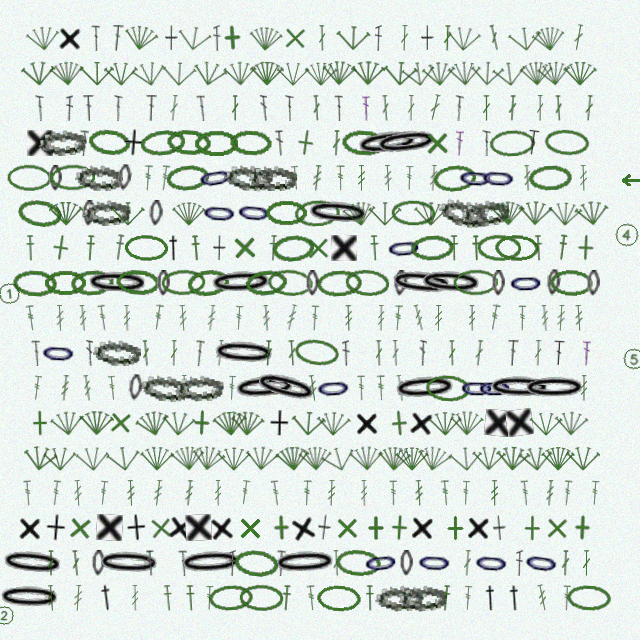chain: (251, 367, 320, 408), (354, 126, 421, 160), (373, 126, 440, 159), (388, 267, 455, 299), (0, 547, 66, 579), (232, 372, 298, 403), (305, 198, 371, 228), (211, 338, 277, 368), (392, 373, 458, 403), (208, 268, 274, 297), (418, 268, 484, 297), (178, 548, 244, 577), (272, 548, 338, 577), (437, 195, 489, 231), (96, 549, 162, 577), (85, 269, 150, 297), (487, 374, 552, 401), (522, 375, 587, 401), (0, 584, 62, 611), (460, 197, 511, 229), (16, 197, 63, 229), (140, 373, 190, 403), (398, 583, 448, 613), (293, 337, 340, 368), (38, 128, 87, 157), (224, 163, 273, 192), (82, 198, 131, 227), (139, 128, 186, 158), (87, 127, 132, 158), (186, 267, 231, 298), (165, 163, 211, 193), (432, 163, 478, 193), (233, 548, 279, 578), (175, 374, 224, 402), (375, 584, 424, 612), (271, 233, 316, 263), (244, 268, 289, 298), (544, 128, 590, 157), (267, 268, 313, 297), (344, 268, 390, 297), (335, 548, 381, 577), (166, 128, 211, 157), (115, 268, 160, 297), (75, 164, 123, 191), (93, 339, 141, 366), (489, 129, 535, 157), (294, 199, 340, 227), (316, 269, 362, 297), (425, 374, 471, 402), (316, 584, 362, 612), (566, 584, 612, 612), (341, 129, 386, 157), (528, 164, 573, 192), (410, 234, 455, 262), (12, 269, 57, 297), (70, 269, 115, 297), (208, 584, 253, 612), (249, 165, 297, 191), (229, 129, 273, 157), (7, 164, 52, 191), (50, 164, 95, 191), (124, 234, 169, 261), (494, 234, 539, 261), (161, 269, 206, 296), (453, 269, 498, 296), (549, 269, 594, 296), (239, 584, 284, 611), (196, 162, 235, 193), (477, 234, 521, 261), (522, 548, 561, 578), (194, 130, 238, 156), (391, 200, 435, 226), (265, 200, 308, 226), (44, 270, 87, 296), (235, 198, 273, 227), (362, 548, 400, 577), (385, 234, 423, 262), (457, 164, 494, 192), (480, 164, 517, 192), (201, 199, 238, 227), (40, 339, 77, 367), (315, 374, 352, 402), (473, 549, 510, 577), (416, 549, 453, 576), (508, 270, 544, 296), (459, 375, 495, 401), (477, 375, 513, 401), (117, 164, 132, 191), (546, 269, 561, 296), (128, 374, 143, 401), (393, 270, 408, 296), (82, 200, 96, 226), (149, 200, 163, 226), (49, 165, 62, 191), (157, 270, 170, 296), (306, 270, 319, 296), (492, 270, 505, 296), (587, 270, 600, 296), (92, 550, 105, 576), (400, 550, 413, 576)
double: (428, 94, 442, 121), (526, 129, 540, 156), (488, 24, 501, 51), (572, 24, 585, 51), (111, 25, 124, 51), (83, 95, 95, 121), (193, 340, 205, 366), (507, 340, 519, 366), (553, 340, 565, 366), (146, 95, 157, 121), (196, 95, 207, 121), (78, 130, 89, 156), (275, 550, 286, 576), (35, 95, 45, 121), (113, 95, 123, 121), (169, 95, 179, 121), (454, 95, 464, 121), (584, 95, 594, 121), (275, 130, 285, 156), (31, 340, 41, 366), (141, 340, 151, 366), (215, 340, 225, 366), (263, 340, 273, 366), (287, 340, 297, 366), (474, 340, 484, 366), (71, 550, 81, 576), (178, 550, 188, 576), (91, 25, 100, 51), (400, 25, 409, 51), (443, 25, 452, 51), (285, 95, 294, 121), (312, 95, 321, 121), (334, 95, 343, 121), (381, 95, 390, 121), (482, 95, 491, 121), (508, 95, 517, 121), (554, 95, 563, 121), (332, 130, 341, 156), (455, 130, 464, 156), (482, 130, 491, 156), (391, 340, 400, 366), (418, 340, 427, 366), (582, 340, 591, 366), (146, 550, 155, 576), (332, 550, 341, 576), (463, 550, 472, 576), (561, 550, 570, 576), (582, 550, 591, 576), (213, 25, 221, 51), (318, 25, 326, 51), (231, 95, 239, 121), (260, 95, 268, 121), (362, 95, 370, 121), (407, 95, 415, 121), (536, 95, 544, 121), (170, 340, 178, 366), (342, 340, 350, 366), (375, 340, 383, 366), (448, 340, 456, 366), (534, 340, 542, 366), (47, 550, 55, 576), (375, 25, 382, 51), (66, 95, 73, 121), (86, 340, 93, 366), (229, 550, 236, 576), (516, 550, 523, 576)
fan: (319, 441, 358, 475), (130, 57, 168, 89), (191, 57, 229, 89), (134, 407, 172, 439), (415, 442, 453, 474), (122, 22, 160, 53), (176, 22, 213, 53), (190, 442, 227, 473), (530, 23, 567, 53), (400, 58, 437, 88), (491, 58, 528, 88), (341, 198, 378, 228), (22, 443, 59, 473), (105, 443, 142, 473), (507, 23, 543, 53), (25, 23, 61, 52), (49, 58, 85, 87), (536, 58, 572, 87), (574, 198, 610, 227), (49, 408, 85, 437), (170, 443, 206, 472), (244, 443, 280, 472), (248, 24, 284, 52), (446, 24, 482, 52), (421, 59, 457, 87), (161, 409, 197, 437), (212, 409, 248, 437), (290, 409, 326, 437), (275, 444, 311, 472), (448, 444, 484, 472), (495, 444, 531, 472), (518, 444, 554, 472), (21, 59, 56, 87), (162, 59, 197, 87), (383, 59, 418, 87), (548, 199, 583, 227), (230, 409, 265, 437), (316, 409, 351, 437), (75, 444, 110, 472), (377, 444, 412, 472), (336, 24, 371, 51), (322, 59, 357, 86), (447, 59, 482, 86), (470, 59, 505, 86), (519, 59, 554, 86), (518, 199, 553, 226), (554, 409, 589, 436), (298, 444, 333, 471), (349, 444, 384, 471), (223, 59, 257, 86), (351, 59, 385, 86), (491, 199, 525, 226), (80, 409, 114, 436), (450, 409, 484, 436), (472, 444, 506, 471), (80, 60, 114, 86), (104, 60, 138, 86), (250, 60, 284, 86), (276, 60, 310, 86), (304, 60, 338, 86), (563, 60, 597, 86), (49, 200, 83, 226), (111, 200, 145, 226), (172, 200, 206, 226), (368, 200, 402, 226), (414, 200, 448, 226), (428, 410, 462, 436), (529, 410, 563, 436), (43, 445, 77, 471), (140, 445, 174, 471), (217, 445, 251, 471), (395, 445, 429, 471), (541, 445, 575, 471), (566, 445, 600, 471)
half_double: (98, 584, 115, 611), (166, 235, 181, 261), (483, 585, 498, 611), (507, 585, 522, 611), (113, 234, 126, 261), (556, 234, 569, 261), (190, 235, 202, 261), (162, 585, 174, 611), (440, 585, 452, 611), (25, 235, 36, 261), (85, 235, 96, 261), (268, 235, 279, 261), (369, 235, 380, 261), (533, 235, 544, 261), (185, 585, 196, 611), (281, 585, 292, 611), (449, 235, 459, 261), (471, 235, 481, 261), (365, 585, 375, 611)
noise: (613, 221, 640, 249), (0, 280, 23, 307), (621, 346, 640, 372), (0, 604, 15, 626), (619, 174, 640, 186)
single: (289, 513, 318, 543), (291, 128, 320, 157), (46, 233, 75, 262), (505, 408, 534, 437), (385, 409, 413, 437), (484, 409, 512, 437), (66, 514, 94, 542), (147, 514, 175, 542), (167, 513, 194, 542), (408, 409, 435, 437), (219, 24, 246, 51), (231, 234, 258, 261), (572, 234, 599, 261), (107, 409, 134, 436), (188, 409, 215, 436), (96, 514, 123, 541), (185, 514, 212, 541), (268, 514, 295, 541), (386, 514, 413, 541), (569, 514, 596, 541), (209, 514, 235, 542), (282, 25, 308, 51), (27, 130, 53, 156), (424, 130, 450, 156), (305, 235, 331, 261), (331, 235, 357, 261), (27, 410, 53, 436), (237, 515, 263, 541), (334, 515, 360, 541), (363, 515, 389, 541), (442, 515, 468, 541), (519, 515, 545, 541), (544, 515, 570, 541), (410, 514, 435, 541), (466, 514, 491, 541), (58, 25, 82, 51), (355, 410, 379, 436), (18, 515, 42, 541), (122, 129, 144, 156), (125, 514, 147, 541), (45, 514, 66, 541), (269, 410, 289, 436), (317, 514, 332, 541), (492, 515, 507, 541), (165, 25, 178, 51), (421, 25, 434, 51), (213, 235, 226, 261)
treble: (412, 304, 426, 331), (285, 304, 298, 331), (488, 304, 501, 331), (536, 584, 549, 611), (97, 304, 109, 331), (152, 304, 164, 331), (239, 479, 251, 506), (159, 165, 171, 191), (311, 165, 323, 191), (25, 305, 37, 331), (31, 375, 43, 401), (307, 375, 319, 401), (50, 480, 62, 506), (152, 480, 164, 506), (270, 480, 282, 506), (290, 165, 301, 191), (206, 305, 217, 331), (82, 375, 93, 401), (107, 375, 118, 401), (395, 375, 406, 401), (98, 480, 109, 506), (440, 480, 451, 506), (520, 480, 531, 506), (562, 480, 573, 506), (46, 585, 57, 611), (306, 585, 317, 611), (143, 165, 153, 191), (383, 165, 393, 191), (55, 305, 65, 331), (78, 305, 88, 331), (178, 305, 188, 331), (234, 305, 244, 331), (310, 305, 320, 331), (393, 305, 403, 331), (540, 305, 550, 331), (556, 305, 566, 331), (574, 305, 584, 331), (60, 375, 70, 401), (227, 375, 237, 401), (376, 375, 386, 401), (23, 480, 33, 506), (73, 480, 83, 506), (126, 480, 136, 506), (184, 480, 194, 506), (302, 480, 312, 506), (414, 480, 424, 506), (461, 480, 471, 506), (545, 480, 555, 506), (590, 480, 600, 506), (73, 585, 83, 611), (463, 585, 473, 611), (562, 585, 572, 611), (336, 165, 345, 191), (357, 165, 366, 191), (405, 165, 414, 191), (429, 165, 438, 191), (523, 165, 532, 191), (579, 165, 588, 191), (262, 305, 271, 331), (344, 305, 353, 331), (434, 305, 443, 331), (518, 305, 527, 331), (357, 375, 366, 401), (327, 480, 336, 506), (389, 480, 398, 506), (490, 480, 499, 506), (205, 585, 214, 611), (123, 305, 131, 331), (377, 305, 385, 331), (468, 305, 476, 331), (180, 375, 188, 401), (580, 375, 588, 401), (214, 480, 222, 506), (360, 480, 368, 506), (131, 585, 139, 611)
